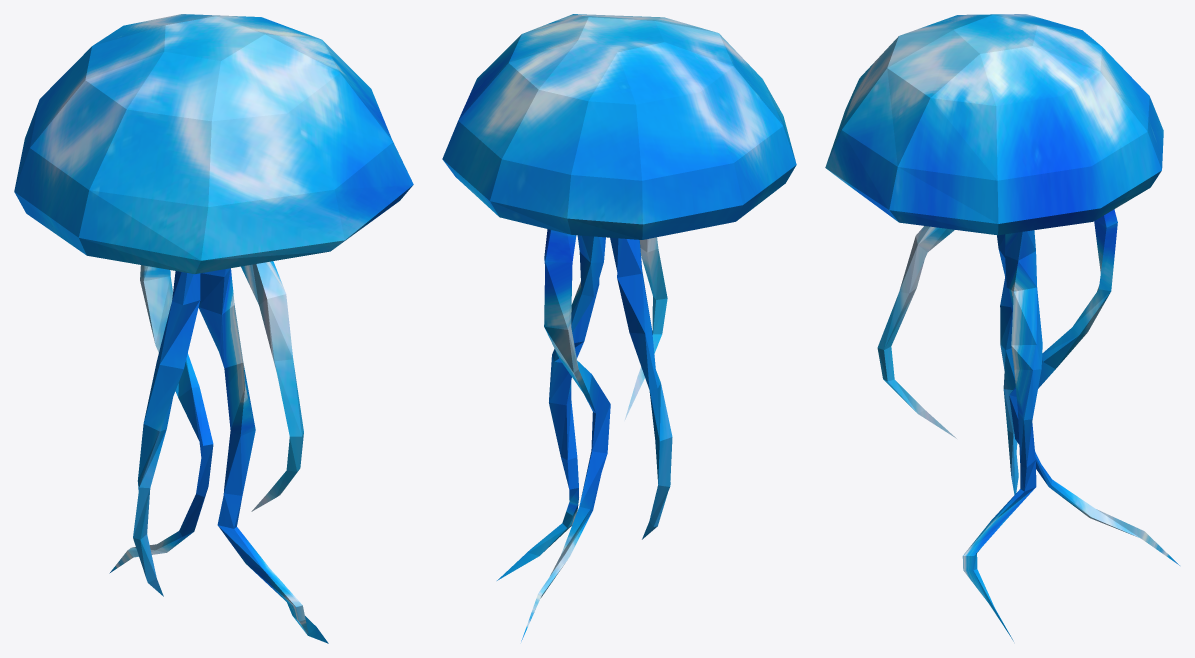
Rendered from Jellyfish.fbx.
3 renders of one model, left to right at view 1: azimuth 30°, elevation 25°; view 2: azimuth 150°, elevation 25°; view 3: azimuth 270°, elevation 25°, orthographic. The views are drawn at different scales.
Parts seen in each view (by area): view 1: pSphere2; view 2: pSphere2; view 3: pSphere2.
Boxes of the visible parts, left/top/right/bottom form: pSphere2: left=14, top=14, right=413, bottom=643; pSphere2: left=442, top=14, right=796, bottom=641; pSphere2: left=825, top=14, right=1179, bottom=641.
Bounding box in the file's own units: 5.74 × 10.28 × 5.96.
1 material, 1 textured.
